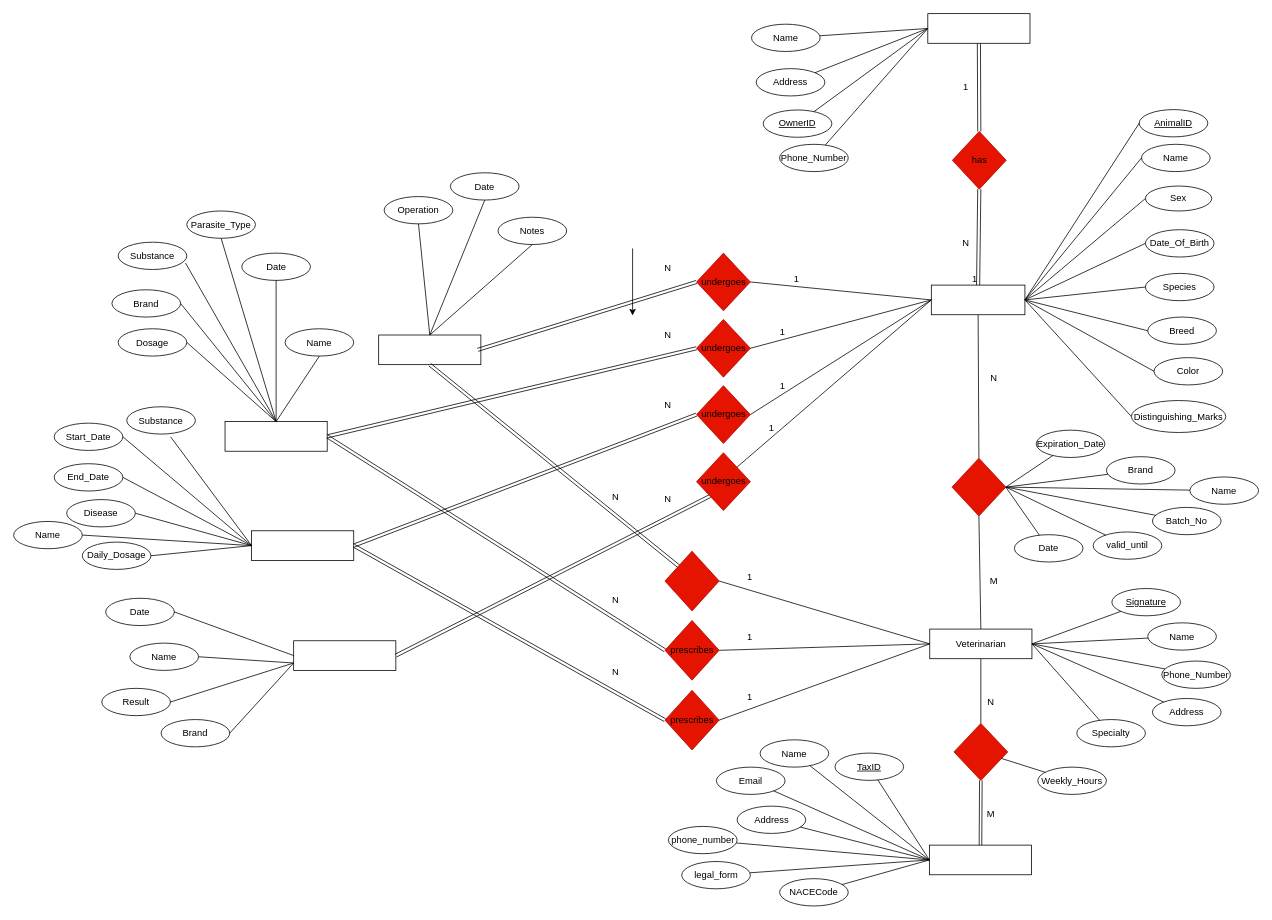
The diagram is 1272 pixels wide and 920 high, and some of its shapes have lost their labels. Each missing label, with the centre of its shape:
Animal: point (978, 299)
Antiparasitic Treatments: point (275, 436)
Clinic: point (980, 859)
Diagnostic Tests: point (344, 655)
Other Treatments: point (302, 545)
Owner: point (978, 28)
performs: point (691, 580)
Surgeries: point (429, 349)
vaccinates: point (978, 486)
works_at: point (980, 751)
